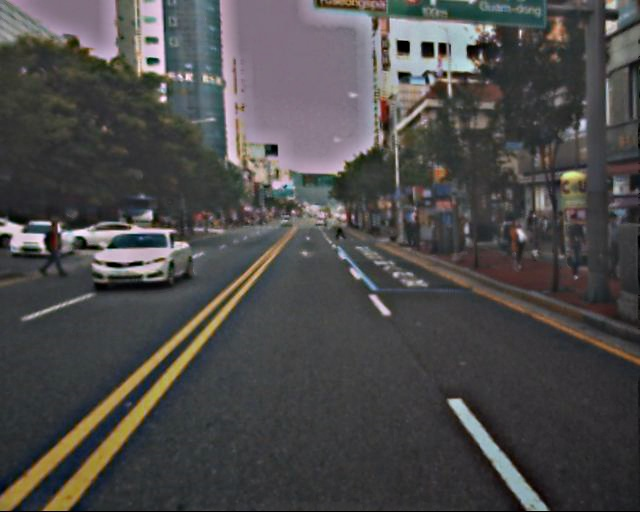person: (42, 219, 77, 276), (558, 212, 586, 280), (505, 221, 526, 272), (457, 216, 475, 259), (427, 219, 442, 256), (410, 218, 425, 254), (529, 216, 548, 242), (335, 212, 347, 241)
